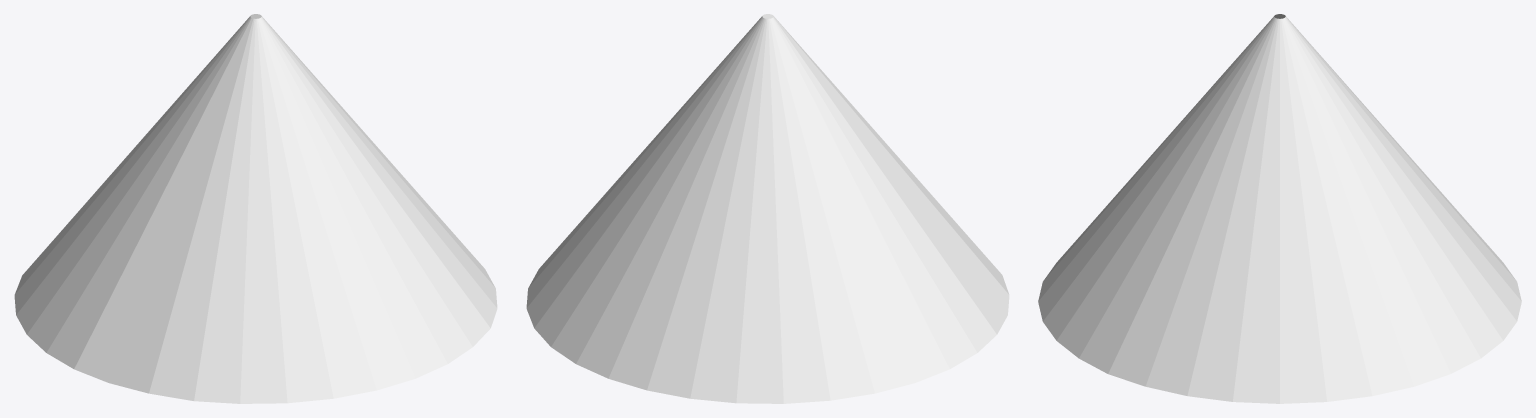
The model's file is Gabel_Cone.gltf.
The picture shows the model from 3 angles, left to right: view 1: azimuth 30°, elevation 25°; view 2: azimuth 150°, elevation 25°; view 3: azimuth 270°, elevation 25°; orthographic projection.
Parts seen in each view (by area): view 1: Cone; view 2: Cone; view 3: Cone.
Boxes of the visible parts, x1,y1,x2,y2 form: Cone: [14, 14, 497, 403]; Cone: [526, 14, 1009, 403]; Cone: [1038, 14, 1521, 403].
Bounding box in the file's own units: 0.75 × 0.4881 × 0.75.
